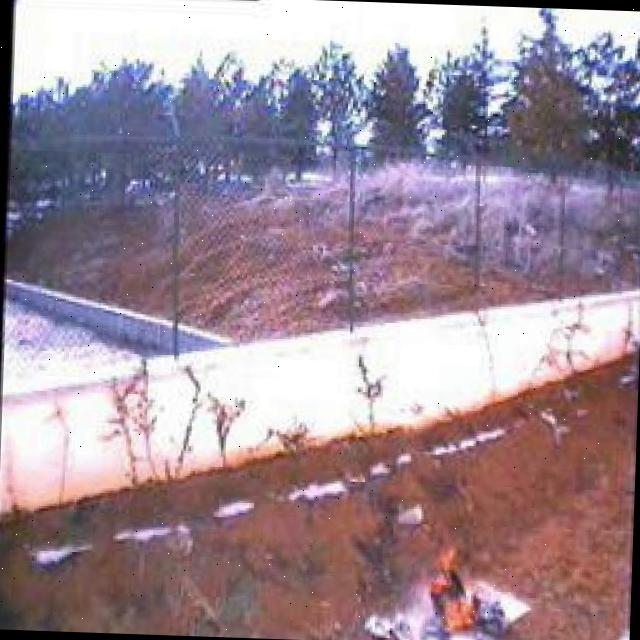fire: (417, 542, 503, 634)
